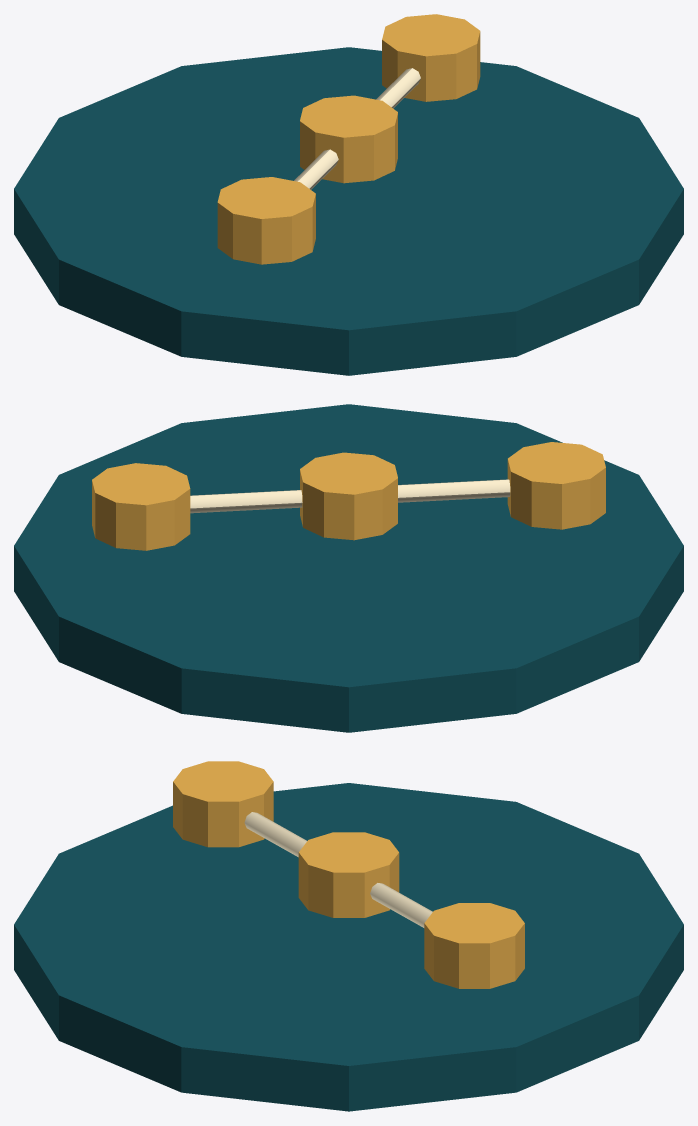
Rendered from Icon_Route.fbx.
The picture shows the model from 3 angles, top to bottom: view 1: azimuth 30°, elevation 25°; view 2: azimuth 150°, elevation 25°; view 3: azimuth 270°, elevation 25°; orthographic projection.
Visible parts, largest first — view 1: Icon_Route_Static; view 2: Icon_Route_Static; view 3: Icon_Route_Static.
Part boxes in pixels (left/top/right/bottom): Icon_Route_Static: left=14, top=14, right=683, bottom=375; Icon_Route_Static: left=14, top=404, right=683, bottom=732; Icon_Route_Static: left=14, top=761, right=683, bottom=1111.
Bounding box in the file's own units: 1.6 × 0.31 × 1.6.
1 material, 1 textured.
